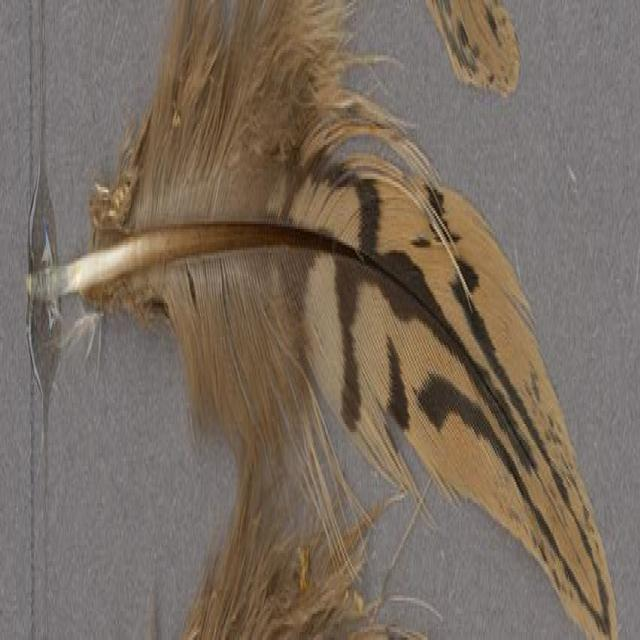feather: (29, 0, 619, 640)
